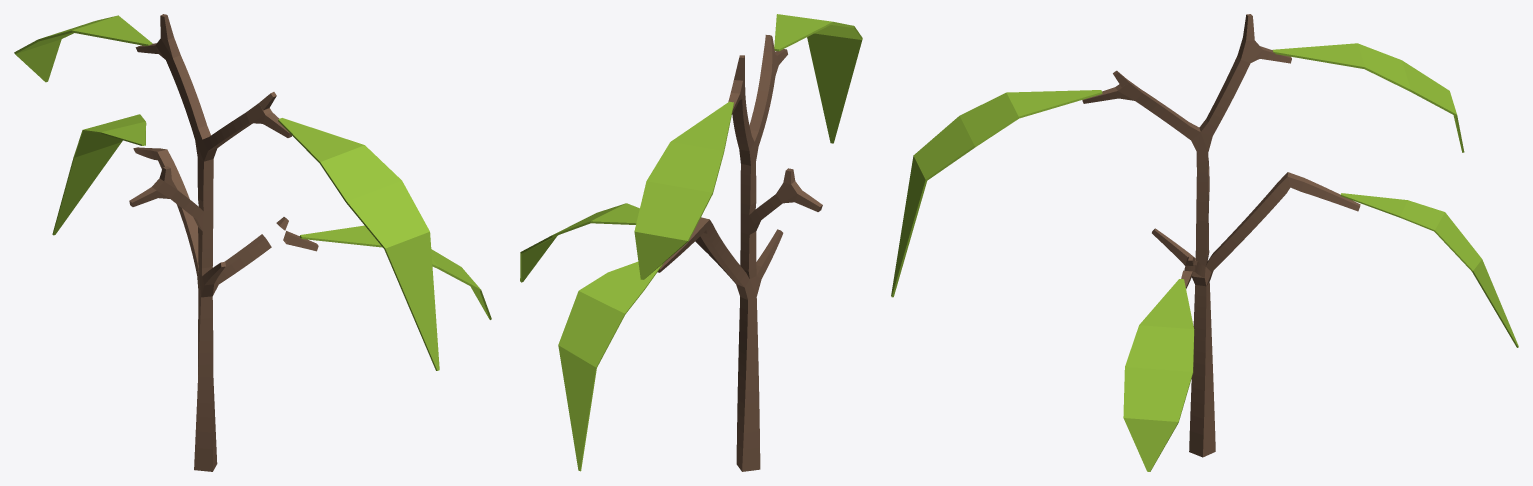
Rendered from Plant2.fbx.
3 renders of one model, left to right at view 1: azimuth 30°, elevation 25°; view 2: azimuth 150°, elevation 25°; view 3: azimuth 270°, elevation 25°, orthographic. The views are drawn at different scales.
Parts seen in each view (by area): view 1: Plant2; view 2: Plant2; view 3: Plant2.
Boxes of the visible parts, <box> form: Plant2: <box>14,14,491,471</box>; Plant2: <box>520,14,862,471</box>; Plant2: <box>891,14,1518,471</box>.
Bounding box in the file's own units: 251 × 316 × 419.
